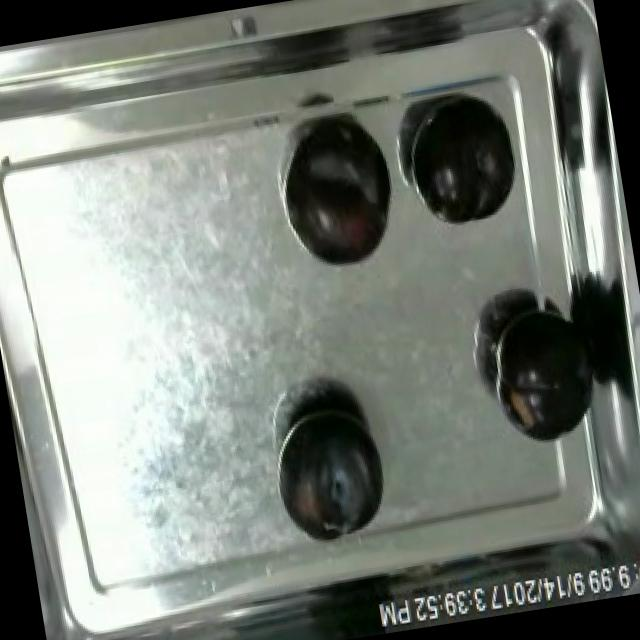Fruit: (474, 288, 610, 458), (262, 386, 400, 548), (276, 119, 406, 280), (406, 90, 526, 238)
